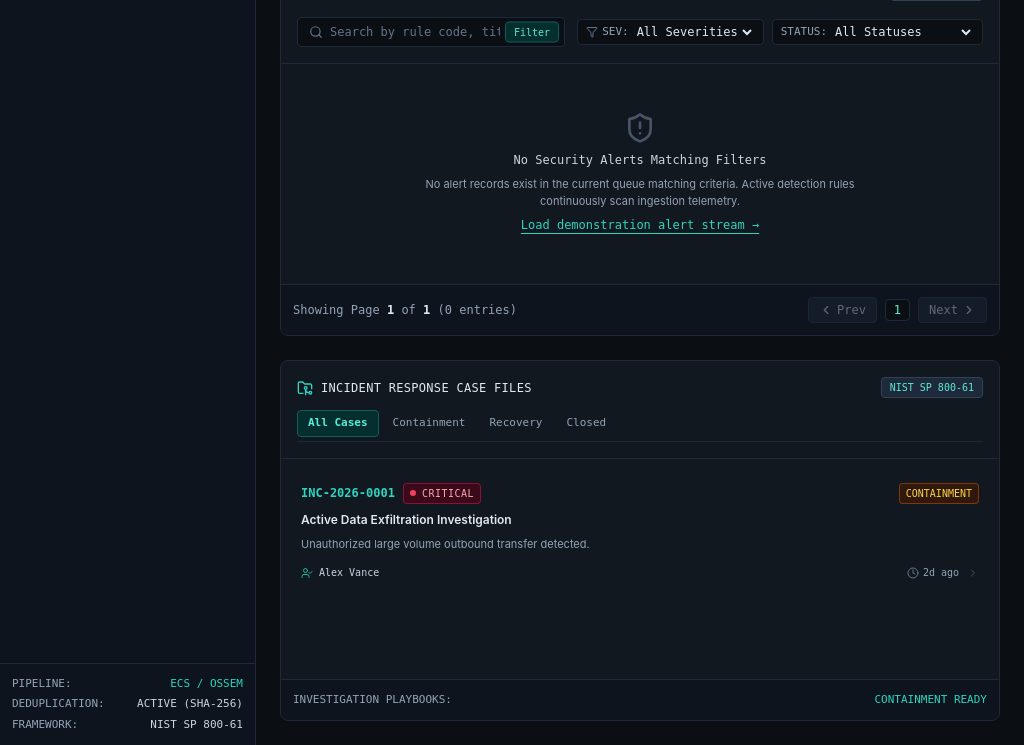
Test: Sentinel Complete Frontend SOC Dashboard & Ingestion › opens Incident Case Detail Dossier modal when an incident row is clicked
(page scrolled)
Click the text "Active Data Exfiltration Investigation" at (406, 519), box 301,512 -> 512,526
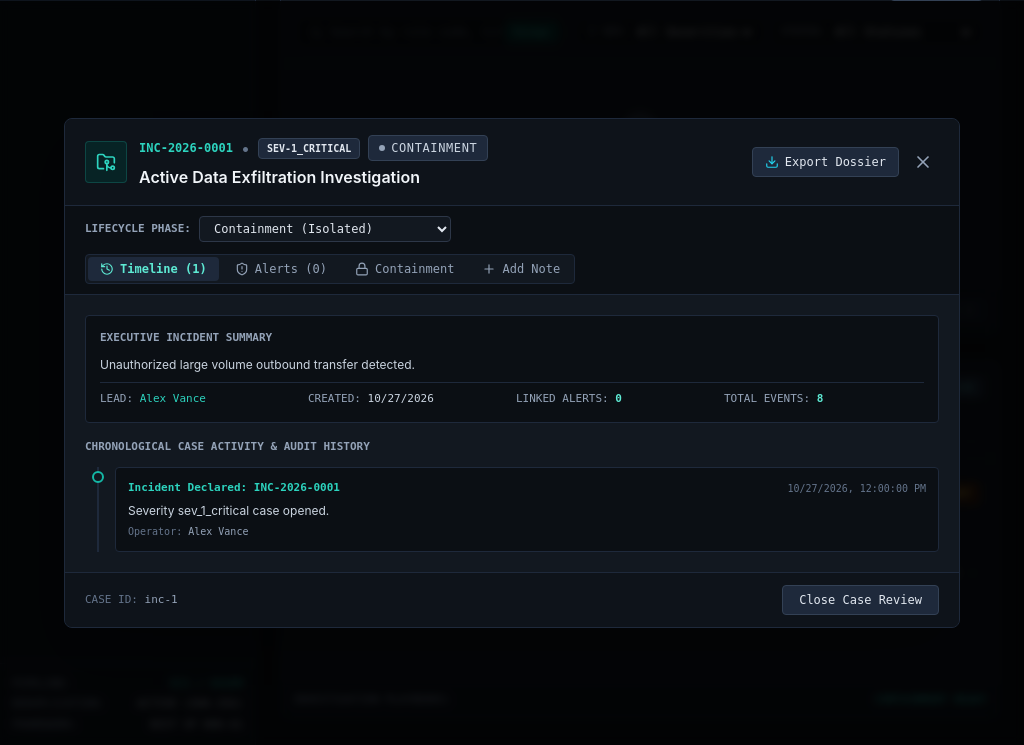
Now the text "Executive Incident Summary" is shown, box 100,331 -> 272,344
Now the text "Chronological Case Activity & Audit History" is shown, box 85,440 -> 370,452
Now the text "Incident Declared: INC-2026-0001" is shown, box 128,480 -> 340,496
